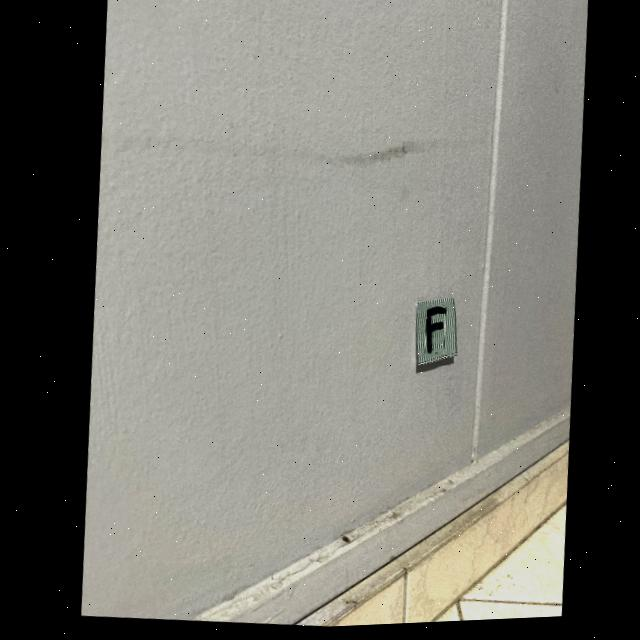F: (423, 311, 442, 357)
